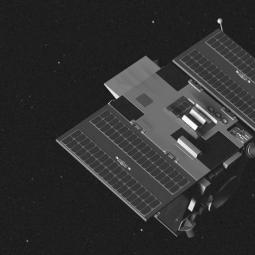proba_2: (65, 30, 255, 224)
